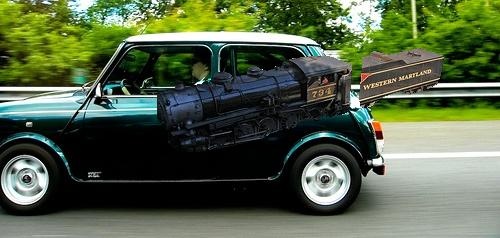tampered: (158, 49, 444, 152)
